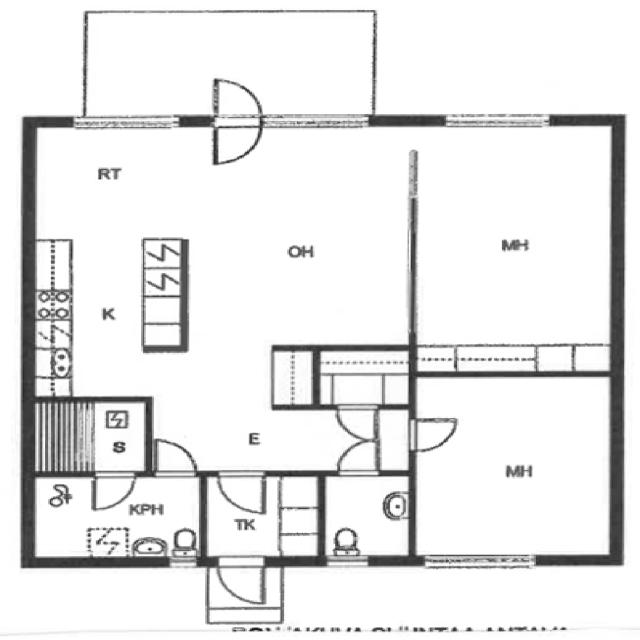door: (34, 466, 198, 560), (207, 468, 323, 566), (57, 468, 169, 525), (205, 75, 262, 169), (212, 552, 268, 608), (146, 434, 202, 481), (216, 469, 268, 518), (86, 468, 138, 514), (330, 402, 381, 443), (404, 416, 460, 453), (331, 439, 381, 476)
window: (419, 548, 548, 576), (432, 109, 556, 137), (64, 110, 188, 138), (259, 110, 374, 138), (322, 554, 378, 571)
zone: (182, 125, 418, 351), (411, 122, 619, 376), (29, 122, 191, 390), (409, 372, 617, 560), (24, 470, 205, 562), (206, 470, 320, 559), (22, 398, 147, 476), (320, 473, 413, 560), (314, 347, 413, 408), (268, 346, 318, 406)
